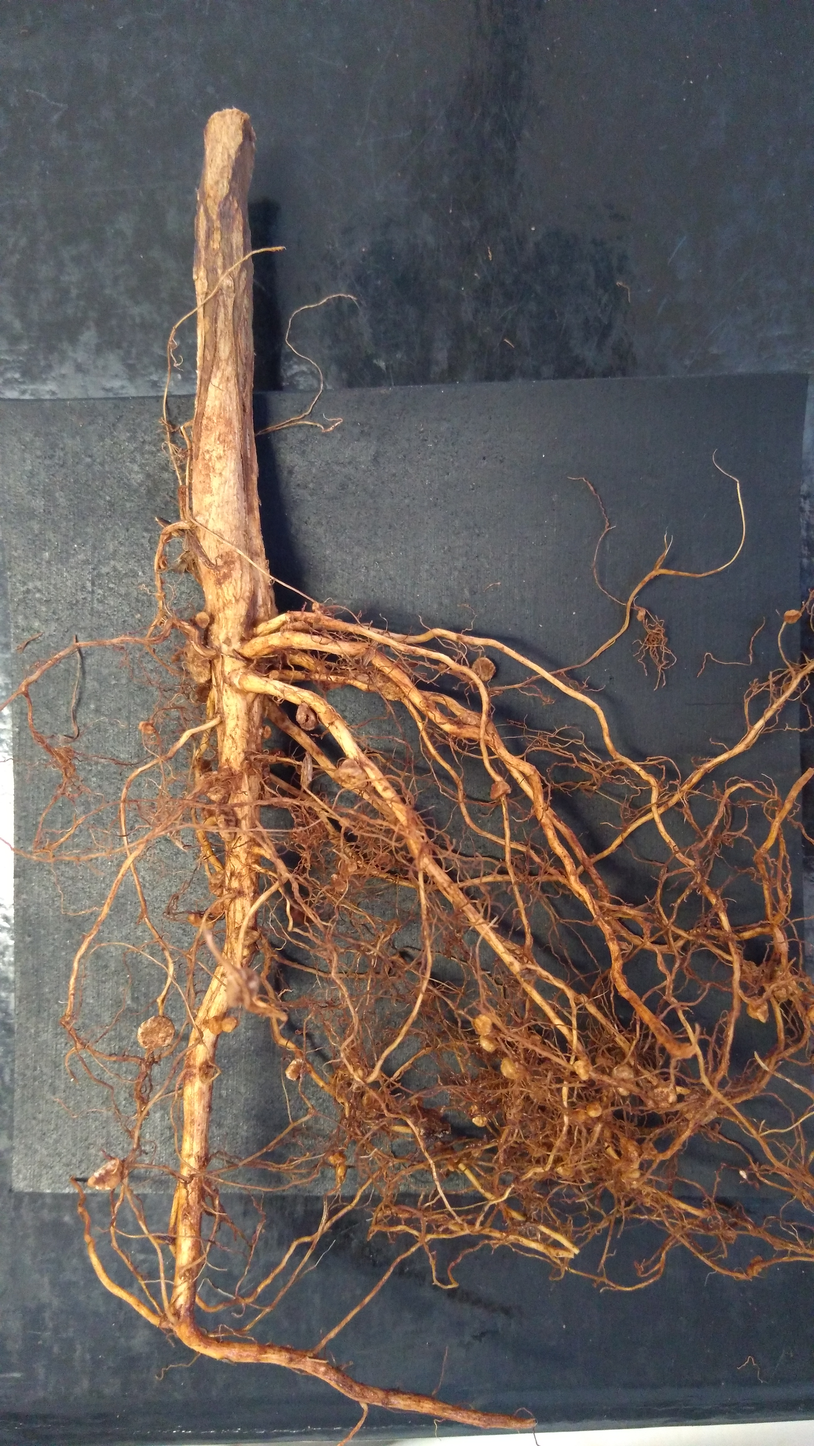nodule: (133, 1011, 180, 1052), (86, 1153, 127, 1194), (759, 960, 797, 1002), (335, 758, 372, 793), (644, 1080, 680, 1112), (200, 769, 231, 802), (469, 655, 501, 686), (608, 1061, 635, 1097), (293, 698, 320, 732), (378, 679, 409, 707), (356, 1088, 390, 1113), (214, 807, 237, 840), (487, 776, 515, 803), (499, 1055, 525, 1083), (745, 995, 770, 1024), (469, 1010, 494, 1038), (282, 1054, 307, 1081), (568, 1057, 591, 1083), (474, 1032, 499, 1055), (619, 1134, 642, 1159), (192, 608, 214, 632), (782, 606, 803, 628), (237, 925, 260, 945), (207, 894, 226, 917), (137, 717, 156, 739), (206, 1014, 224, 1037), (220, 1014, 239, 1035), (326, 1148, 350, 1164), (746, 1255, 764, 1276), (642, 1138, 658, 1161), (585, 1099, 603, 1118), (471, 1138, 486, 1158), (723, 1224, 738, 1244), (468, 1115, 489, 1129), (261, 723, 275, 739), (337, 1163, 348, 1176), (268, 669, 281, 680), (636, 607, 646, 621), (356, 1064, 367, 1075), (311, 602, 322, 612)
